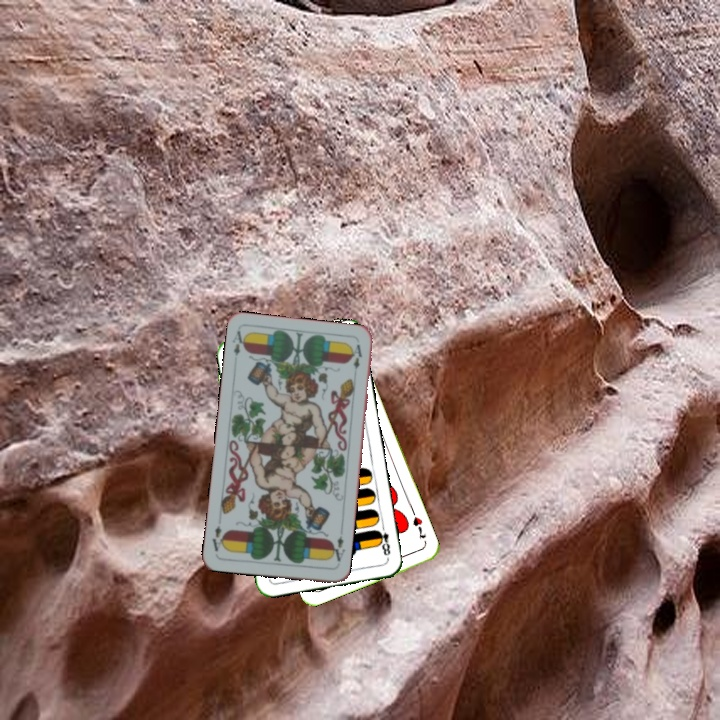E8: (373, 520, 393, 561)
EA: (228, 326, 249, 367), (327, 532, 347, 564)
H7: (408, 507, 429, 542)
